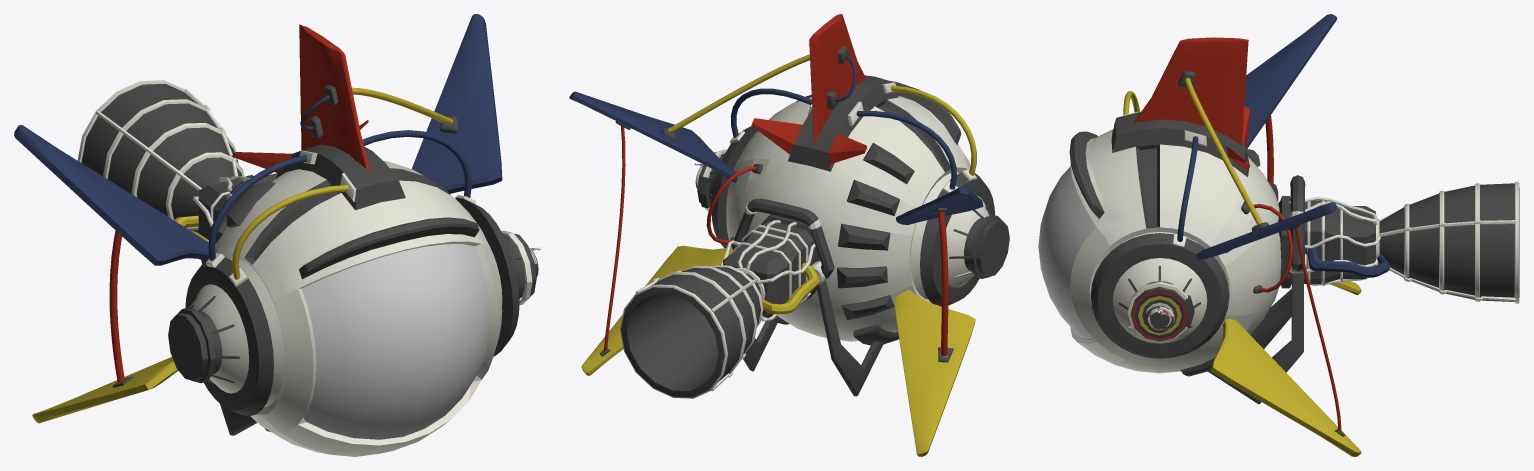
Rendered from NaveFinal.fbx.
3 renders of one model, left to right at view 1: azimuth 30°, elevation 25°; view 2: azimuth 150°, elevation 25°; view 3: azimuth 270°, elevation 25°, orthographic. The views are drawn at different scales.
Visible parts, largest first — view 1: NaveBase, NaveCristal; view 2: NaveBase; view 3: NaveBase, NaveCristal, NaveTapa, Ruleta.
Boxes of the visible parts, left/top/right/bottom form: NaveBase: left=14, top=14, right=532, bottom=456; NaveCristal: left=301, top=244, right=489, bottom=439; NaveBase: left=569, top=14, right=1009, bottom=456; NaveBase: left=1069, top=14, right=1519, bottom=456; NaveCristal: left=1038, top=166, right=1096, bottom=339; NaveTapa: left=1130, top=286, right=1188, bottom=341; Ruleta: left=1144, top=305, right=1174, bottom=332.
Bounding box in the file's own units: 704 × 576 × 738.
